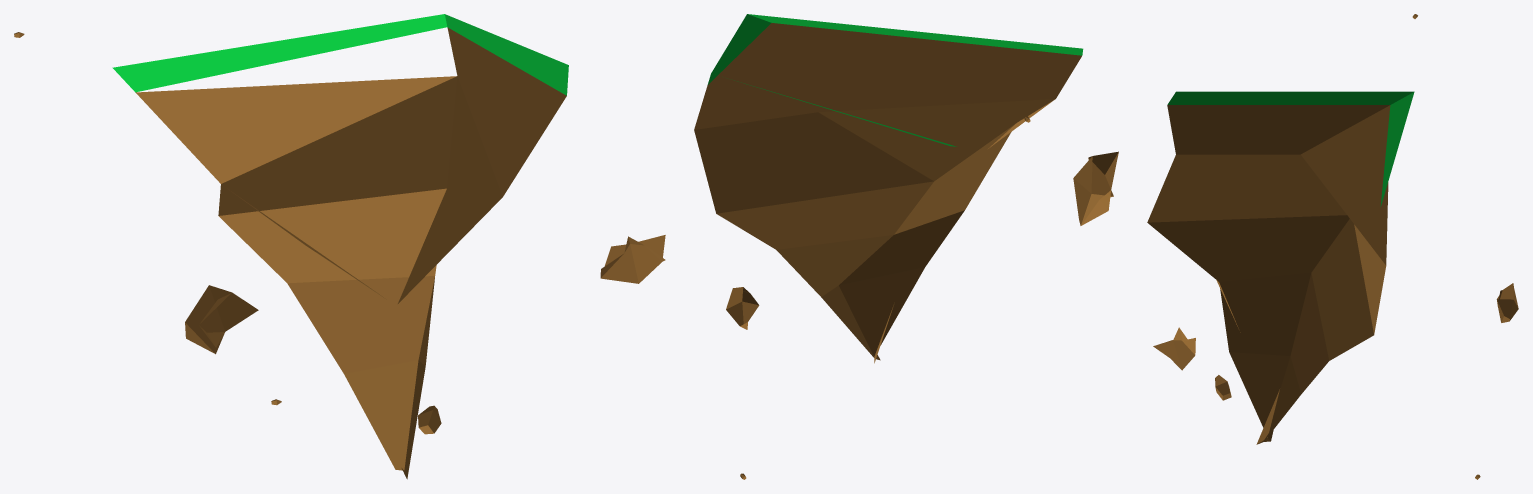
The model's file is floating-island-large.glb.
3 views of the same model, side by side, from view 1: azimuth 30°, elevation 25°; view 2: azimuth 150°, elevation 25°; view 3: azimuth 270°, elevation 25° (orthographic). The views are drawn at different scales.
Parts seen in each view (by area): view 1: FloatingIslandLarge; view 2: FloatingIslandLarge; view 3: FloatingIslandLarge.
Boxes of the visible parts, left/top/right/bottom form: FloatingIslandLarge: left=14, top=14, right=665, bottom=479; FloatingIslandLarge: left=694, top=14, right=1118, bottom=479; FloatingIslandLarge: left=1147, top=14, right=1518, bottom=479.
Bounding box in the file's own units: 2.68 × 2.48 × 2.34.
